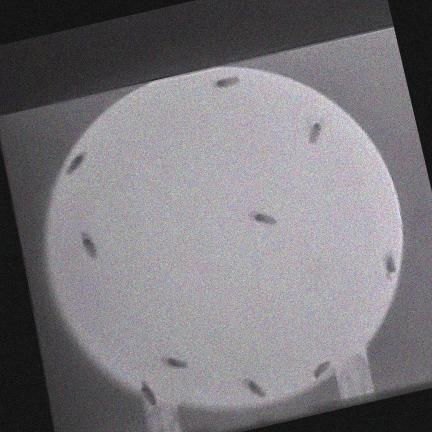fly: (243, 378, 265, 397), (139, 381, 156, 405), (66, 151, 84, 173), (81, 231, 95, 257), (249, 211, 275, 224), (383, 251, 395, 279), (308, 119, 322, 142), (214, 75, 239, 87), (162, 356, 186, 368), (313, 361, 329, 377)
